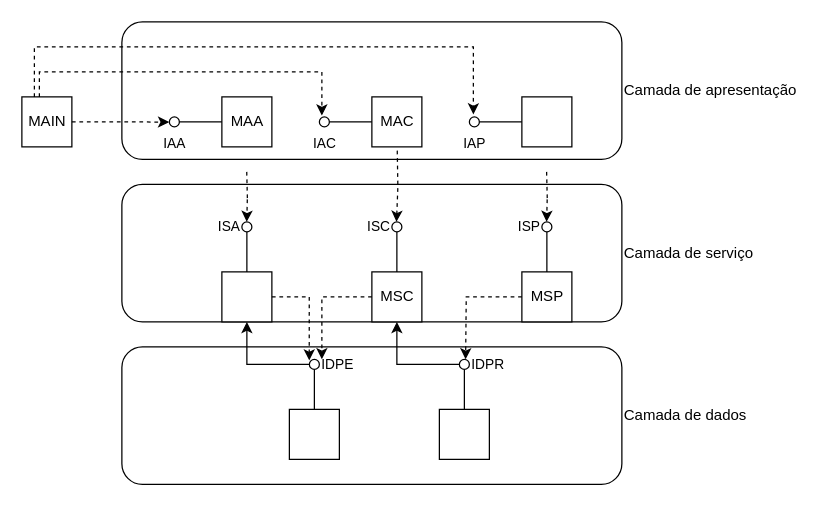
Image size: 819x506. Some labels were removed from this diagram. The shapes that lost their labels are listed below. From the top down, each one's centre as x and y in pixels, then its label:
point (546, 121): MAP
point (246, 296): MSA
point (313, 433): MDPE
point (463, 433): MDPR
